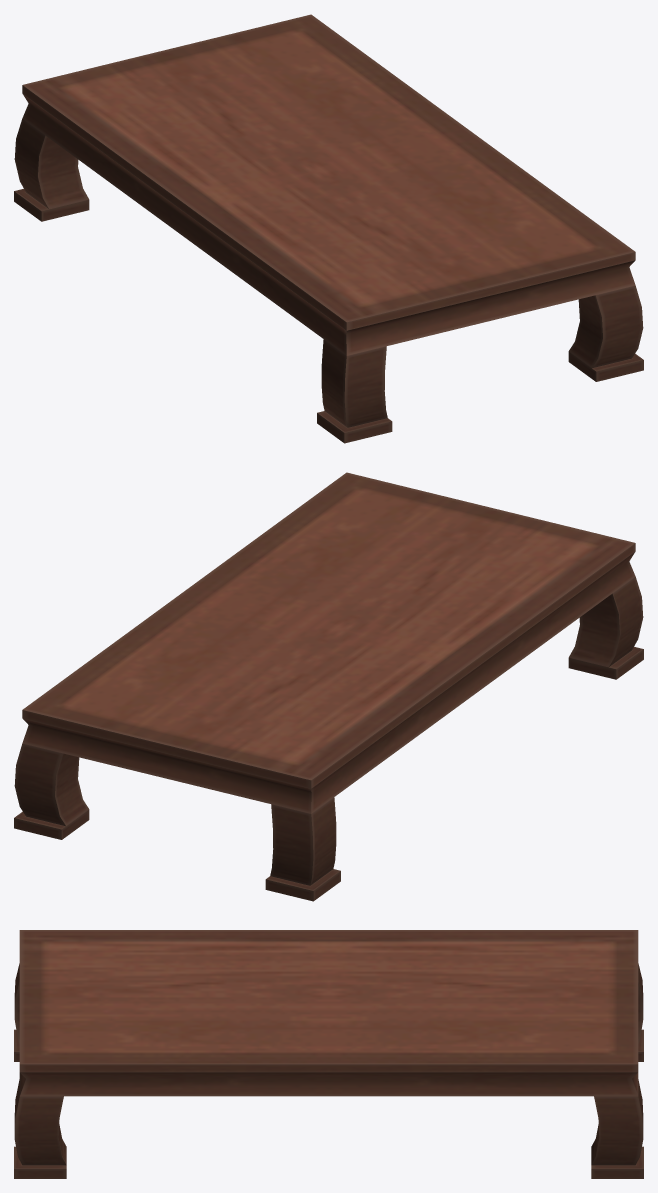
Rendered from tukueA01.fbx.
The picture shows the model from 3 angles, top to bottom: view 1: azimuth 30°, elevation 25°; view 2: azimuth 150°, elevation 25°; view 3: azimuth 270°, elevation 25°; orthographic projection. The views are drawn at different scales.
Parts seen in each view (by area): view 1: tukueA01; view 2: tukueA01; view 3: tukueA01.
Part boxes in pixels (x1,y1,x2,y2): tukueA01: (14,14,643,443); tukueA01: (14,472,643,901); tukueA01: (14,930,643,1178).
Size of the model in its own units: 187 by 70 by 357.
